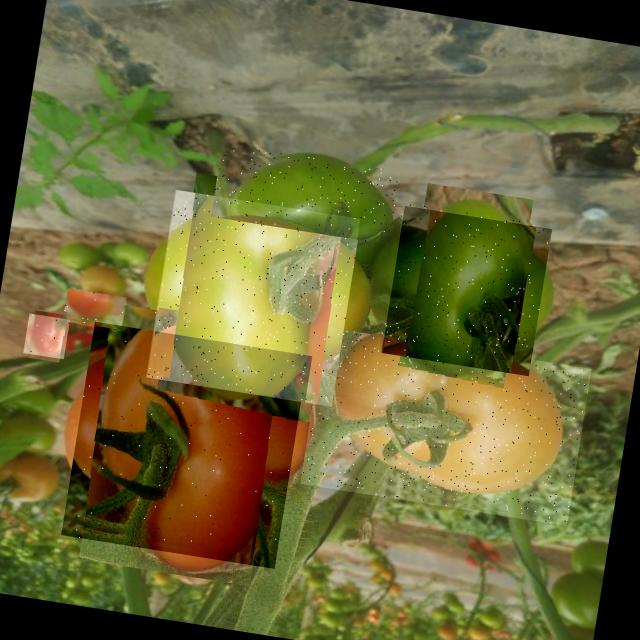Ripe Tomato: (61, 322, 308, 569), (62, 288, 128, 331), (23, 314, 70, 359)
Unripe Tomato: (300, 327, 592, 526), (144, 190, 360, 406), (378, 202, 552, 376), (210, 143, 400, 245)
